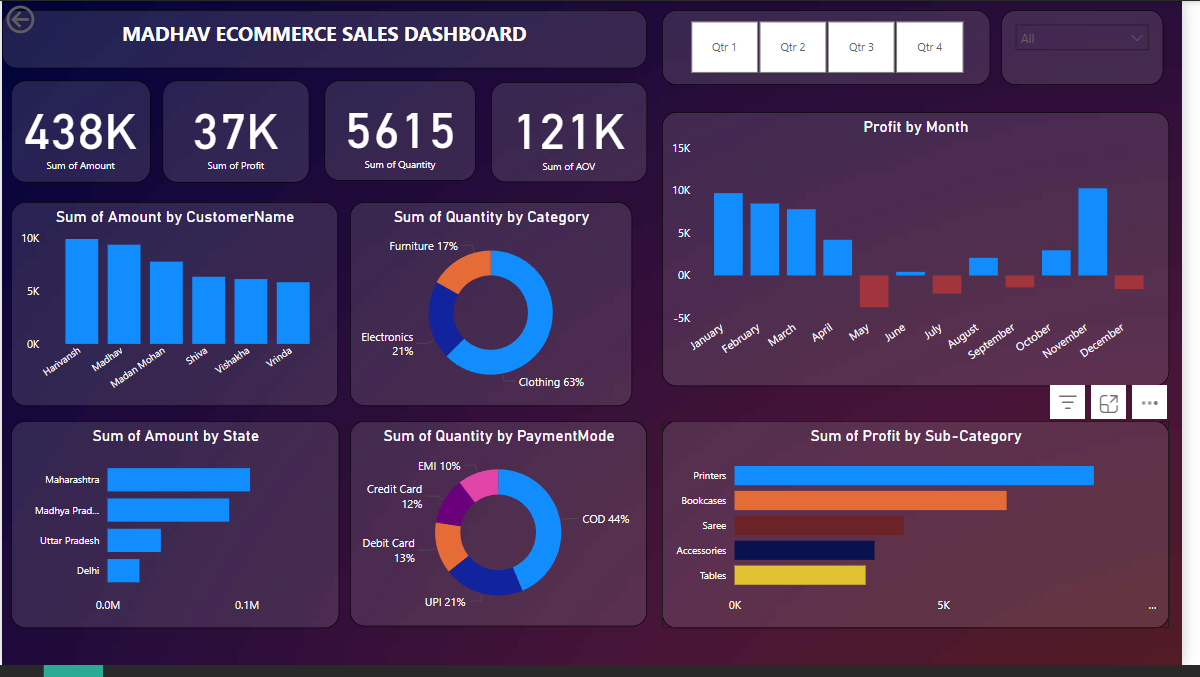

The dashboard page shown, as its layout file describes it:
{"tool":"powerbi","page":{"name":"Page 1","canvas":[1280,720],"ordinal":0},"visuals":[{"type":"textbox","box":[0,9.8,699.4,63.4],"z":0},{"type":"columnChart","title":" Profit by Month","fields":{"Y":["Details.Profit"],"Category":["Orders.Order Date.Variation.Date Hierarchy.Month"]},"box":[715.7,120.4,549.8,297.7],"z":1000},{"type":"barChart","fields":{"Category":["Details.Sub-Category"],"Y":["Details.Profit"]},"box":[715.7,455.4,549.8,224.5],"z":2000},{"type":"donutChart","fields":{"Category":["Details.Category"],"Y":["Details.Quantity"]},"box":[377.4,218,305.8,221.2],"z":3000},{"type":"donutChart","fields":{"Y":["Details.Quantity"],"Category":["Details.PaymentMode"]},"box":[377.4,455.4,322.1,222.8],"z":4000},{"type":"actionButton","box":[0,0,100,40],"z":5000},{"type":"card","fields":{"Values":["Details.Amount"]},"box":[9.8,86.2,151.3,110.6],"z":6000},{"type":"card","fields":{"Values":["Details.Profit"]},"box":[174,86.2,159.4,110.6],"z":7000},{"type":"card","fields":{"Values":["Details.Quantity"]},"box":[349.7,86.2,164.3,109],"z":8000},{"type":"card","fields":{"Values":["Details.AOV"]},"box":[530.3,87.8,169.2,109],"z":9000},{"type":"barChart","fields":{"Category":["Orders.State"],"Y":["Details.Amount"]},"box":[9.8,455.4,356.2,224.5],"z":10000},{"type":"columnChart","fields":{"Category":["Orders.CustomerName"],"Y":["Details.Amount"]},"box":[9.8,218,354.6,221.2],"z":11000},{"type":"slicer","fields":{"Values":["Orders.Order Date.Variation.Date Hierarchy.Quarter"]},"box":[715.7,9.8,356.2,81.3],"z":12000},{"type":"slicer","fields":{"Values":["Orders.State"]},"box":[1083.3,9.8,175.7,81.3],"z":12001}]}

Visuals, with their boxes in screenshot pixels (x1, y1, x2, y2), scaled from the page's 1280x720 canvas onto the 1200x677 screenshot:
textbox: box(0, 9, 656, 69)
" Profit by Month" columnChart: box(671, 113, 1186, 393)
barChart - Details.Sub-Category x Details.Profit: box(671, 428, 1186, 639)
donutChart - Details.Category x Details.Quantity: box(354, 205, 640, 413)
donutChart - Details.Quantity x Details.PaymentMode: box(354, 428, 656, 638)
actionButton: box(0, 0, 94, 38)
card - Details.Amount: box(9, 81, 151, 185)
card - Details.Profit: box(163, 81, 313, 185)
card - Details.Quantity: box(328, 81, 482, 184)
card - Details.AOV: box(497, 83, 656, 185)
barChart - Orders.State x Details.Amount: box(9, 428, 343, 639)
columnChart - Orders.CustomerName x Details.Amount: box(9, 205, 342, 413)
slicer - Orders.Order Date.Variation.Date Hierarchy.Quarter: box(671, 9, 1005, 86)
slicer - Orders.State: box(1016, 9, 1180, 86)
